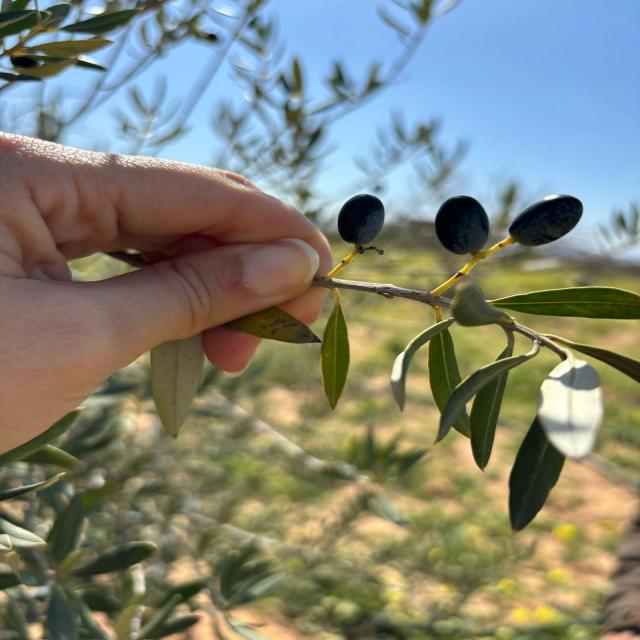Healthy: (491, 286, 639, 319), (509, 195, 583, 246), (321, 290, 349, 409), (435, 196, 489, 254), (338, 194, 385, 252)
